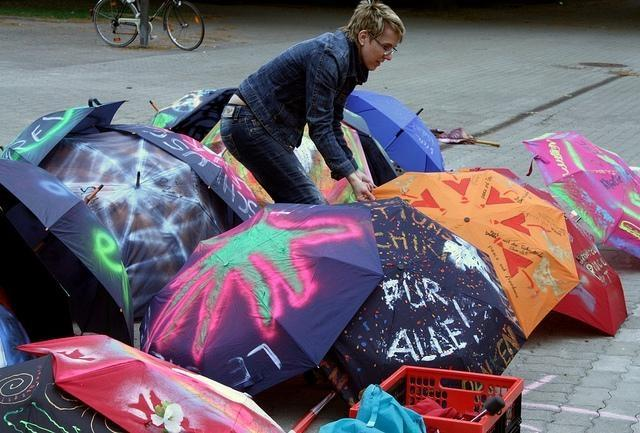bicycle: (92, 0, 208, 47)
